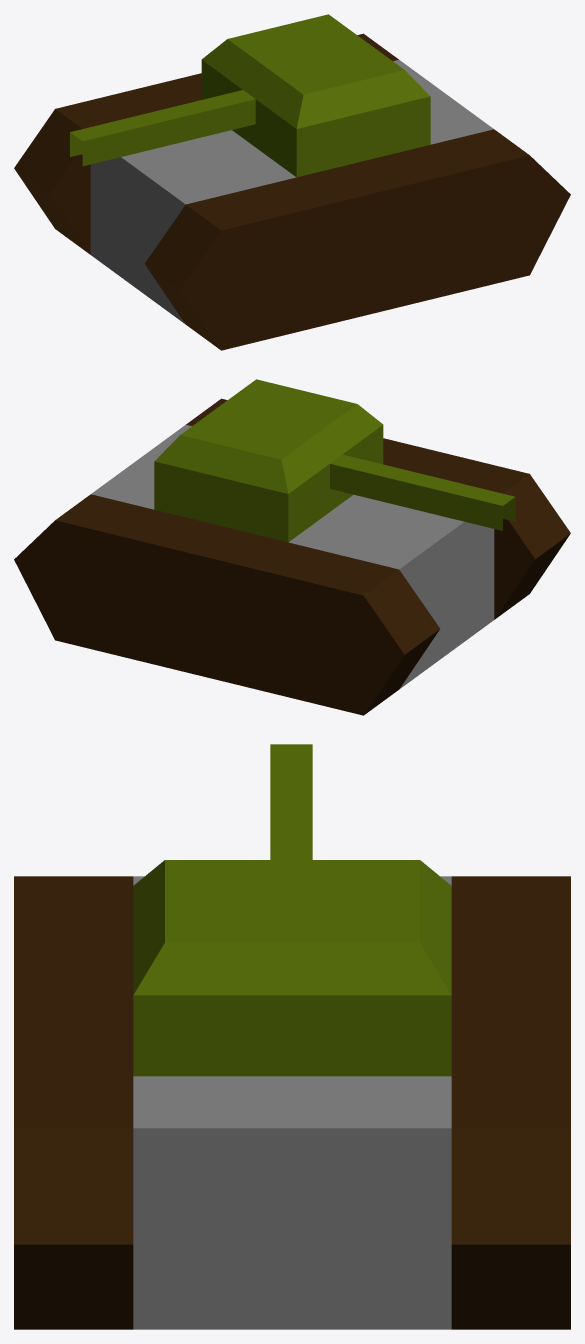
The model's file is tank_npc_1.glb.
3 renders of one model, top to bottom at view 1: azimuth 30°, elevation 25°; view 2: azimuth 150°, elevation 25°; view 3: azimuth 270°, elevation 25°, orthographic. The views are drawn at different scales.
Visible parts, largest first — view 1: tank_npc_1; view 2: tank_npc_1; view 3: tank_npc_1.
Part boxes in pixels (x1,y1,x2,y2): tank_npc_1: (14,14,570,350); tank_npc_1: (14,379,570,715); tank_npc_1: (14,744,570,1329).
Size of the model in its own units: 2 by 0.8918 by 1.4.
1 material, 1 textured.
